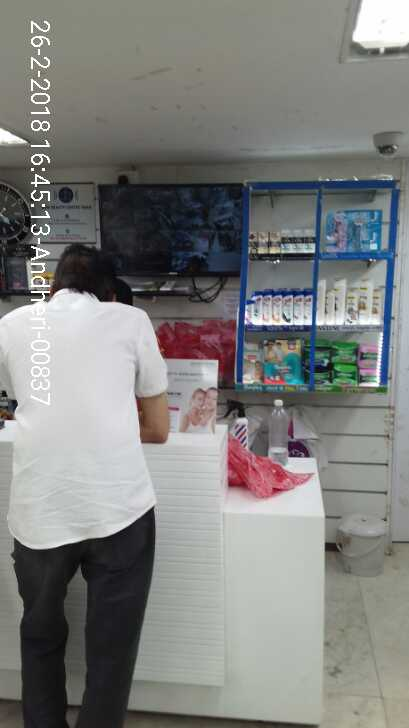venus: (354, 210, 384, 249), (324, 211, 353, 249)
